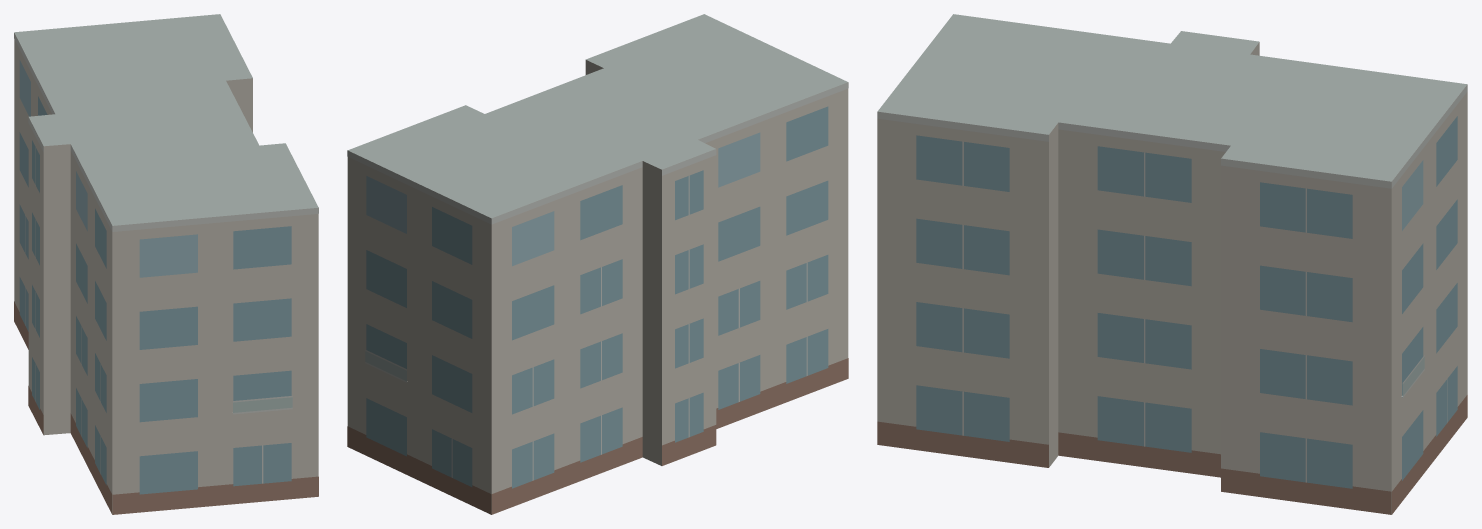
The model's file is survey-upis-32930240.glb.
The picture shows the model from 3 angles, left to right: view 1: azimuth 30°, elevation 25°; view 2: azimuth 150°, elevation 25°; view 3: azimuth 270°, elevation 25°; orthographic projection. The views are drawn at different scales.
Parts seen in each view (by area): view 1: survey-upis-32930240.tmp; view 2: survey-upis-32930240.tmp; view 3: survey-upis-32930240.tmp.
Boxes of the visible parts, bbox=[...] form: survey-upis-32930240.tmp: bbox=[14, 14, 318, 514]; survey-upis-32930240.tmp: bbox=[347, 14, 848, 514]; survey-upis-32930240.tmp: bbox=[877, 14, 1467, 514].
Size of the model in its own units: 12.53 by 11.6 by 18.63.
